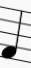F: (1, 4, 22, 62)
